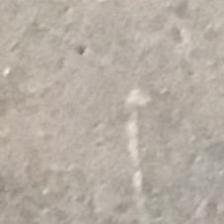Non_Crack: (19, 10, 224, 197)
